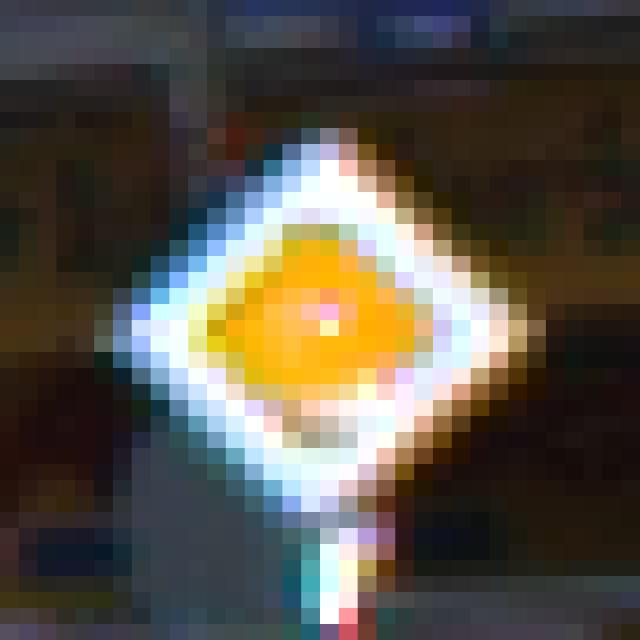Main Road: (95, 97, 547, 561)
